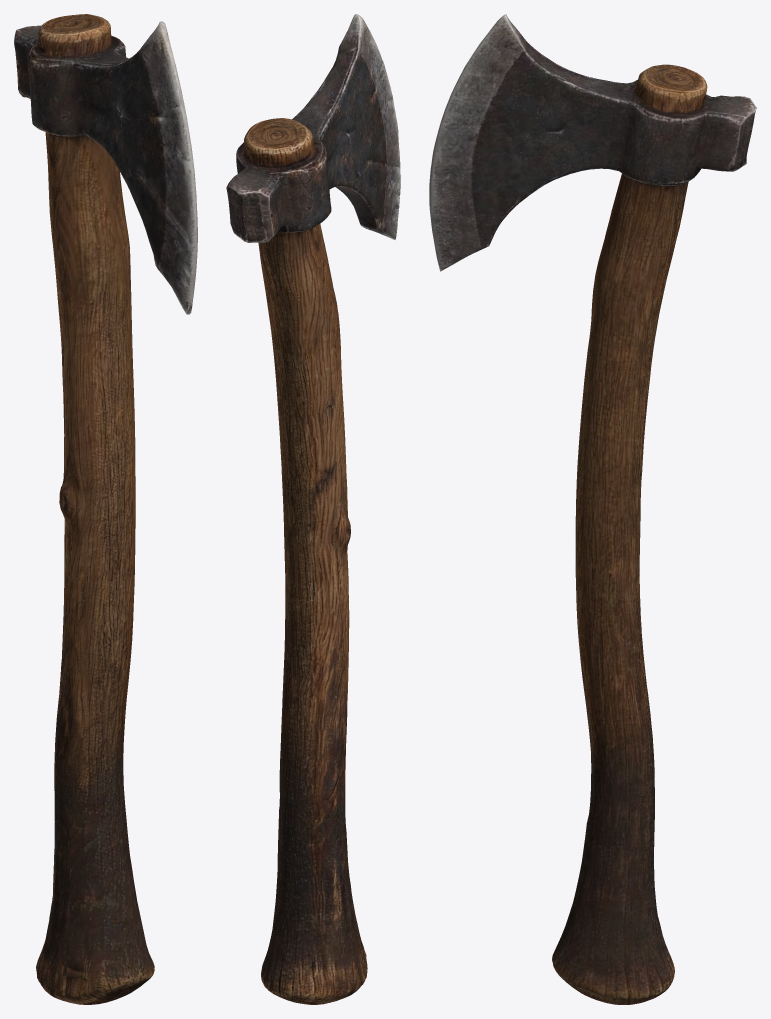
The model's file is axe.glb.
3 renders of one model, left to right at view 1: azimuth 30°, elevation 25°; view 2: azimuth 150°, elevation 25°; view 3: azimuth 270°, elevation 25°, orthographic. The views are drawn at different scales.
Parts seen in each view (by area): view 1: axe; view 2: axe; view 3: axe.
Part boxes in pixels (box(x1,y1,x2,y2)): axe: box(14, 14, 197, 1004); axe: box(226, 14, 400, 1004); axe: box(429, 14, 756, 1004).
Size of the model in its own units: 0.0494 by 0.48 by 0.1442.
1 material, 1 textured.
